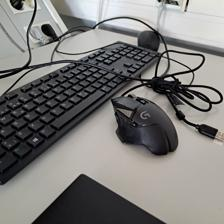mouse: (111, 91, 180, 157)
